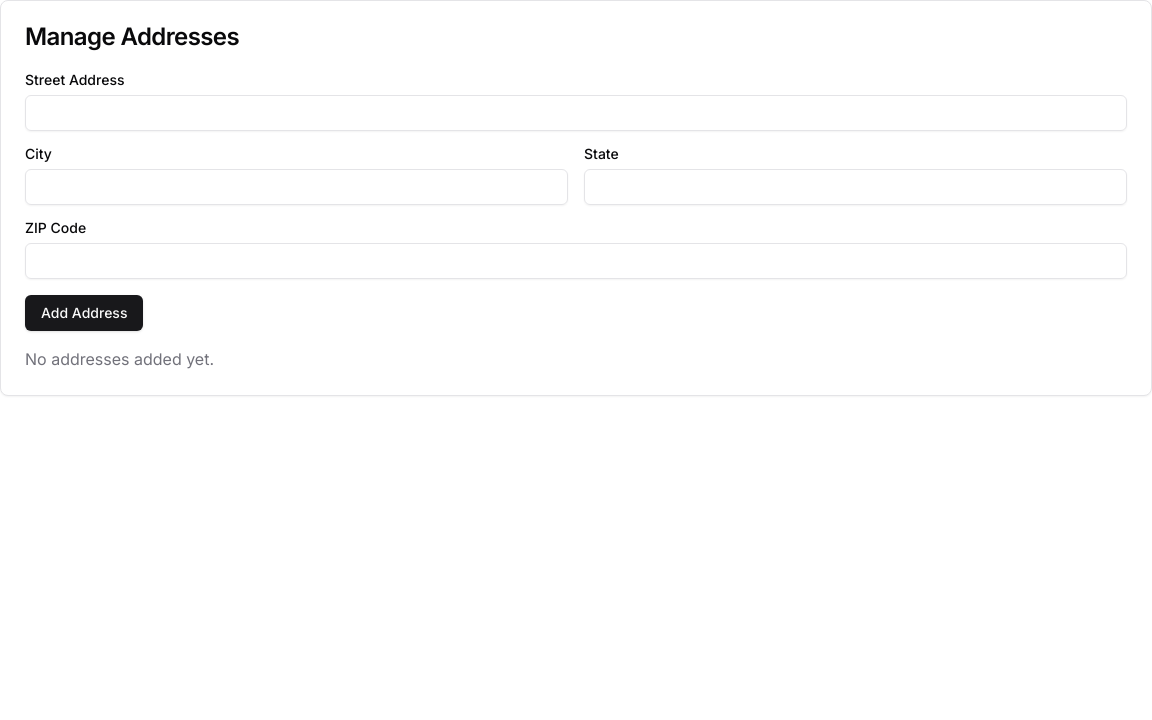
Test: AddressManager › can add a new address
Note: Fill form
Step 1. Type "456 Elm St" into the field labelled "Street Address" → (576, 113), box [25,95,1127,131]
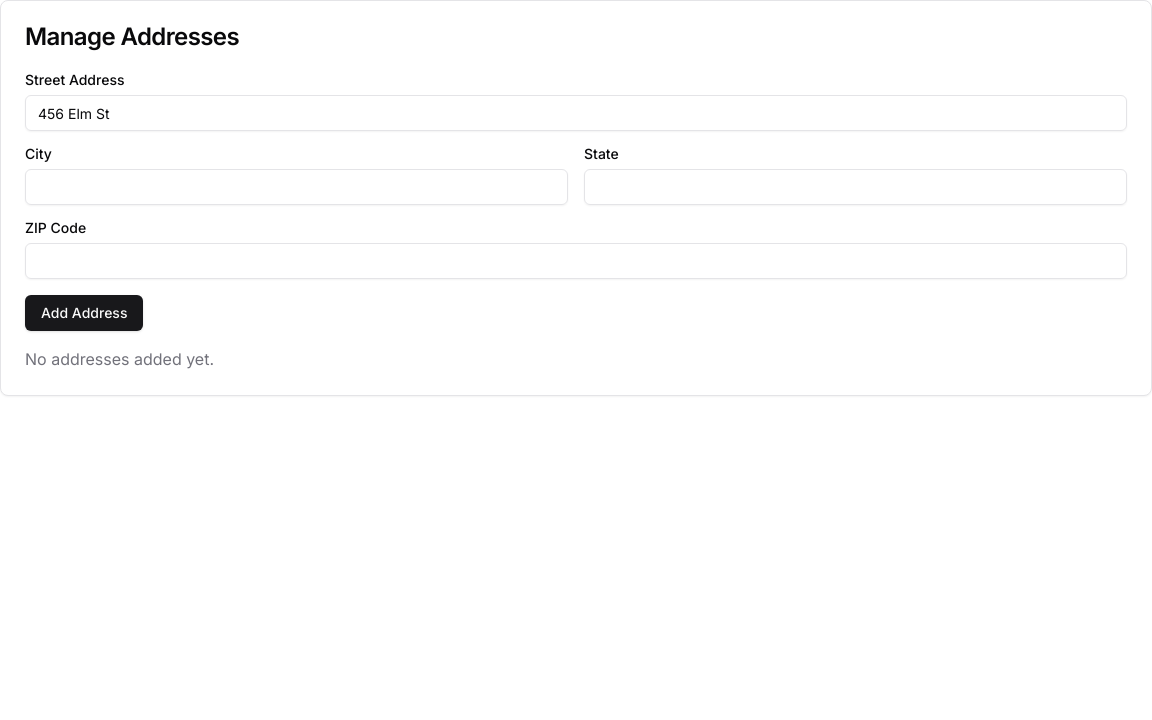
Step 2. Type "Boston" into the field labelled "City" → (296, 187), box [25,169,568,205]
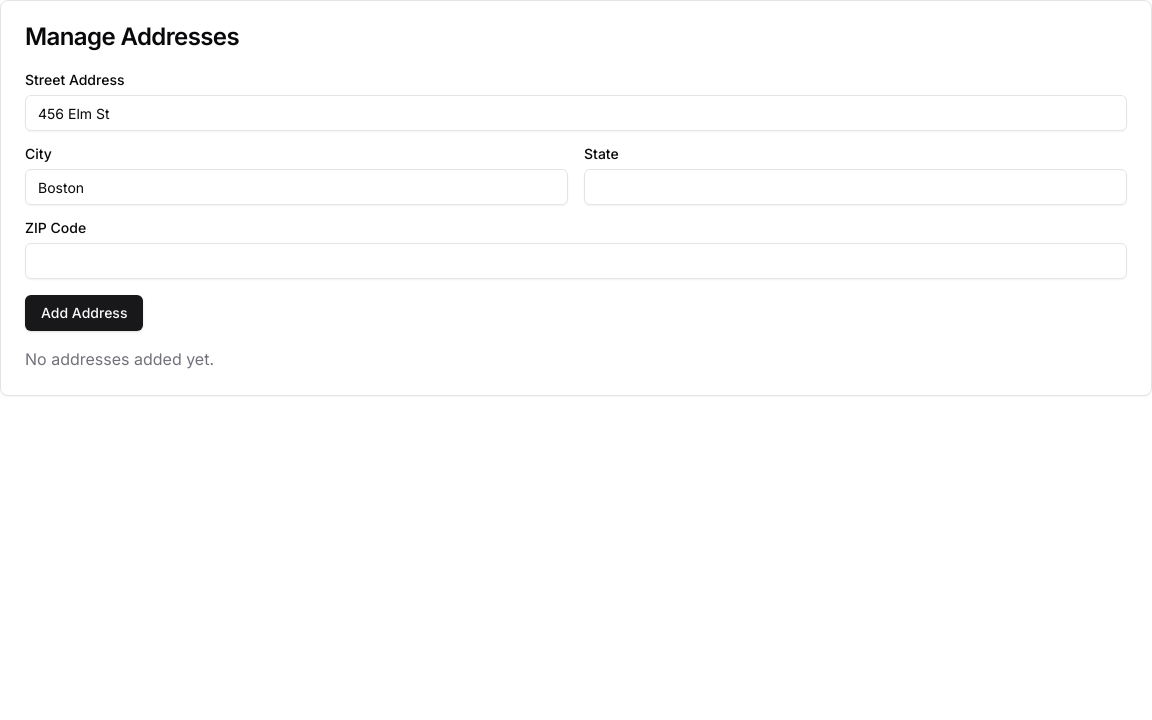
Step 3. Type "MA" into the field labelled "State" → (856, 187), box [584,169,1127,205]
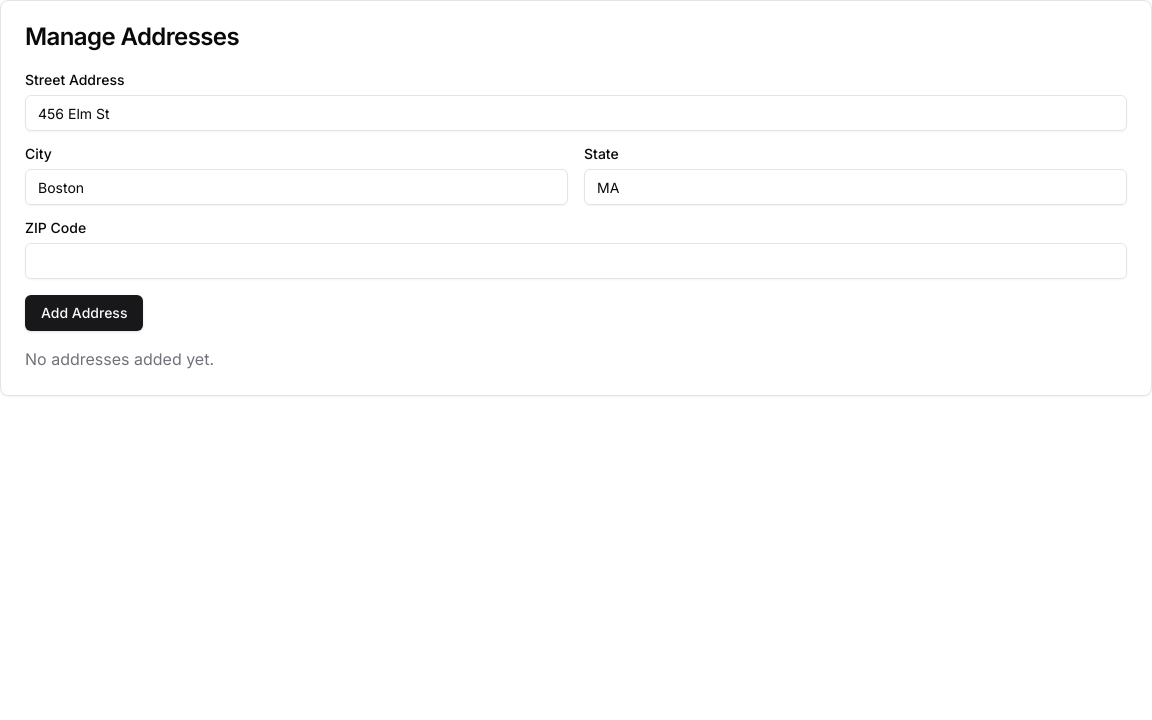
Step 4. Type "02108" into the field labelled "ZIP Code" → (576, 261), box [25,243,1127,279]
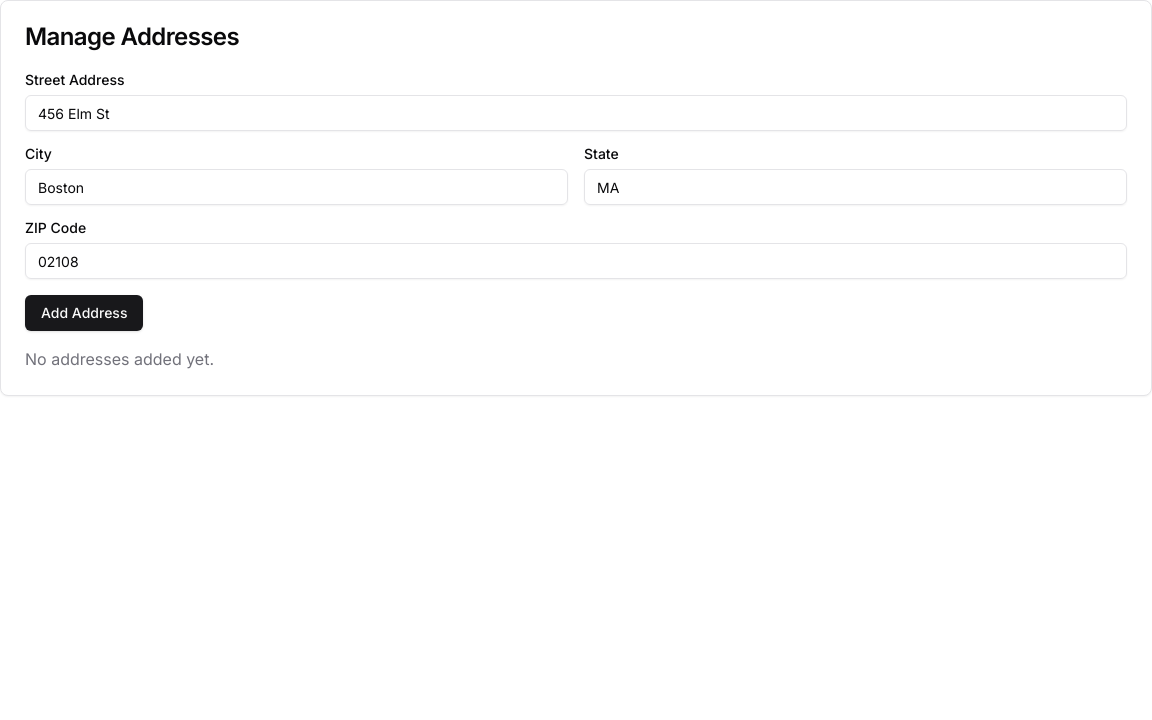
Note: Submit form
Step 5. Click the button "Add Address" → (84, 313), box [25,295,143,331]
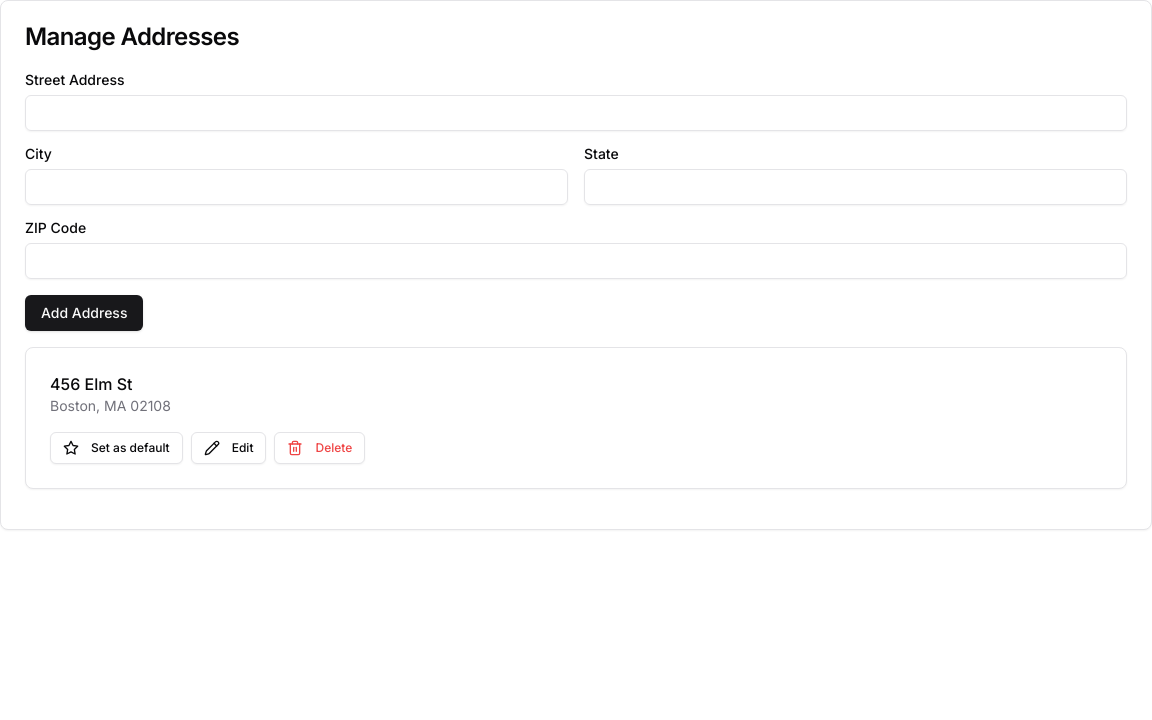
Now the text with test id "address-street" reads "456 Elm St", box [50,374,132,394]
Now the text with test id "address-city-state" reads "Boston, MA 02108", box [50,396,171,416]
